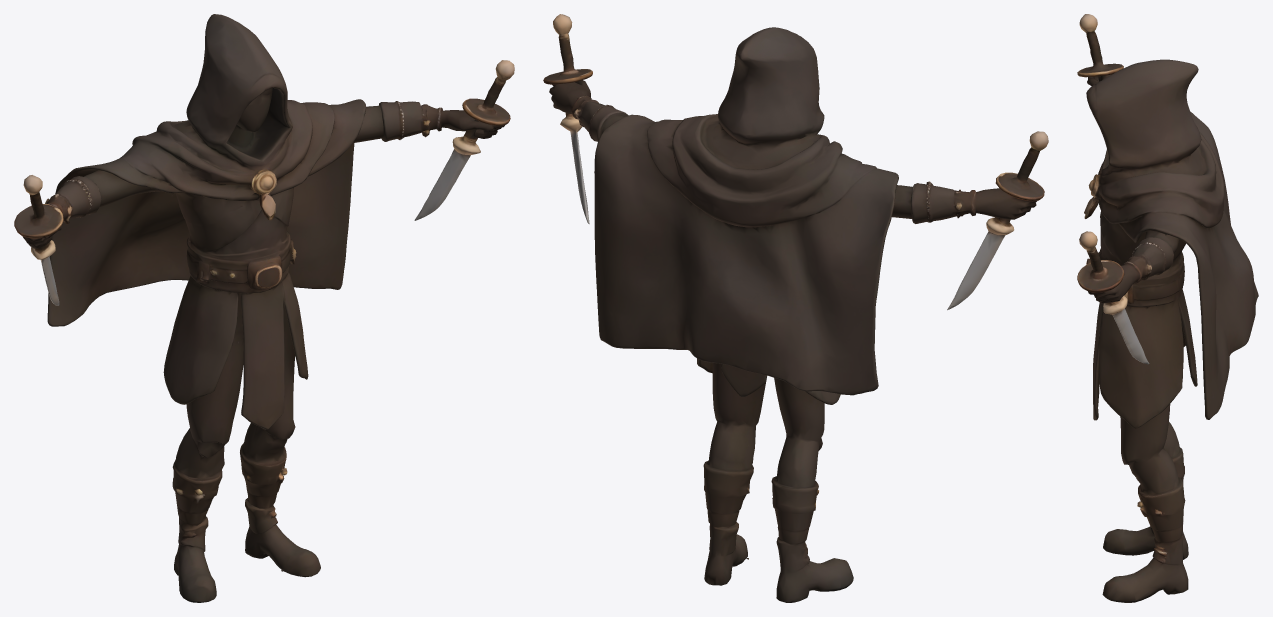
File: hero_suikastci.glb
3 views of the same model, side by side, from view 1: azimuth 30°, elevation 25°; view 2: azimuth 150°, elevation 25°; view 3: azimuth 270°, elevation 25° (orthographic). The views are drawn at different scales.
Visible parts, largest first — view 1: tripo_node_61d971e2-61ba-404b-8fc5-59e7435a9df5; view 2: tripo_node_61d971e2-61ba-404b-8fc5-59e7435a9df5; view 3: tripo_node_61d971e2-61ba-404b-8fc5-59e7435a9df5.
Part boxes in pixels (box(x1,y1,x2,y2)): tripo_node_61d971e2-61ba-404b-8fc5-59e7435a9df5: box(14, 14, 514, 602); tripo_node_61d971e2-61ba-404b-8fc5-59e7435a9df5: box(543, 14, 1048, 602); tripo_node_61d971e2-61ba-404b-8fc5-59e7435a9df5: box(1077, 14, 1258, 602).
Bounding box in the file's own units: 0.9376 × 1 × 0.3192.
1 material, 1 textured.
